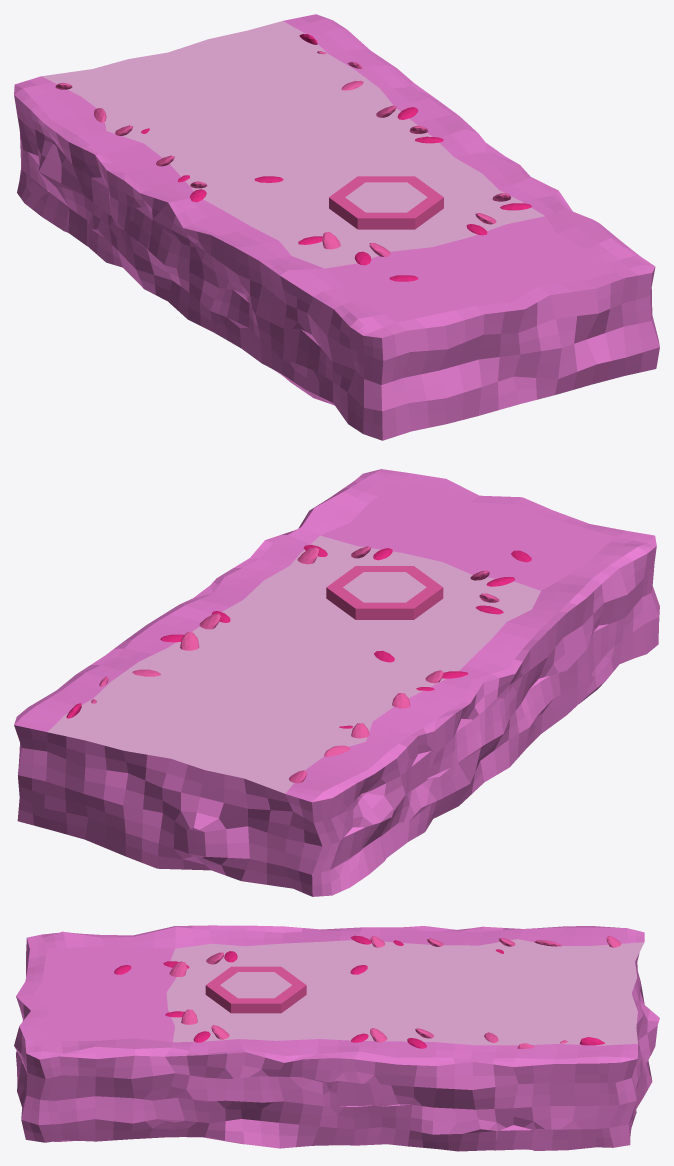
File: startPlatform.fbx
3 views of the same model, one above another, from view 1: azimuth 30°, elevation 25°; view 2: azimuth 150°, elevation 25°; view 3: azimuth 270°, elevation 25° (orthographic). The views are drawn at different scales.
Parts seen in each view (by area): view 1: Cube.001, Cylinder; view 2: Cube.001, Cylinder; view 3: Cube.001, Cylinder.
Part boxes in pixels (x1=…): Cube.001: x1=14, y1=14, x2=659, y2=440; Cylinder: x1=329, y1=176, x2=443, y2=229; Cube.001: x1=14, y1=469, x2=659, y2=896; Cylinder: x1=326, y1=566, x2=443, y2=619; Cube.001: x1=14, y1=925, x2=659, y2=1151; Cylinder: x1=205, y1=966, x2=306, y2=1013.
Bounding box in the file's own units: 675 × 230 × 1282.
